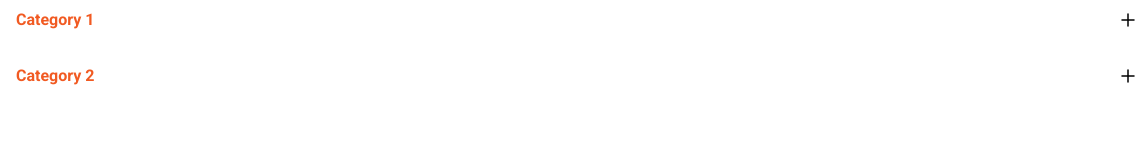
Test: handleCategoryOpen › opens a category if it is not already open
Step 1. Click the element with test id "collapse-menu-0" → (1128, 20), box [1116,8,1140,32]
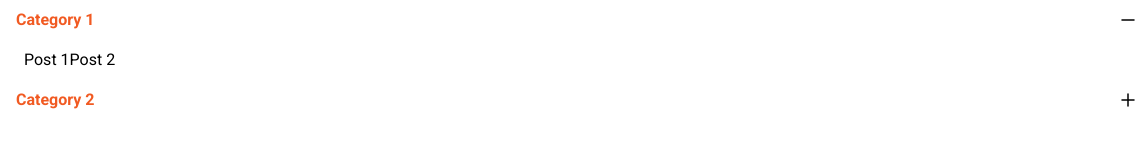
Check: the link "Post 1" is shown, box [24,50,70,69]
Check: the link "Post 2" is shown, box [70,50,115,69]
